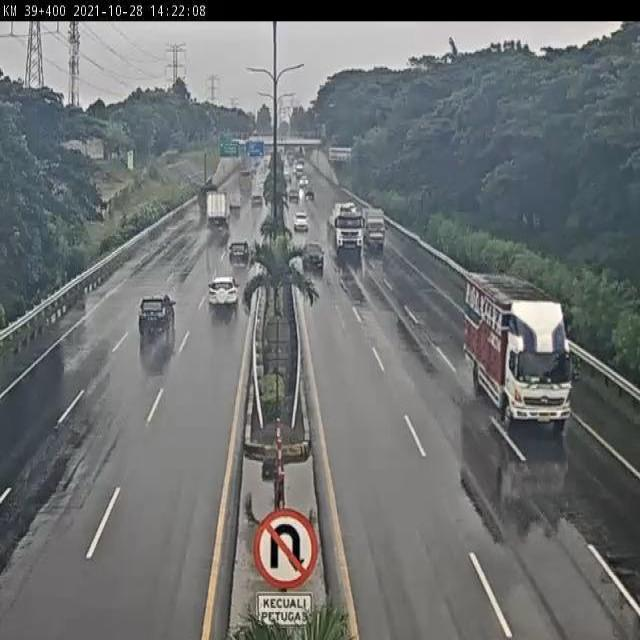ARABA: (136, 290, 183, 342), (206, 269, 245, 316), (229, 236, 256, 268), (301, 242, 326, 274)
KAMYONET: (362, 201, 386, 251)
TIR: (464, 271, 574, 436), (326, 202, 363, 254), (205, 191, 234, 228)
